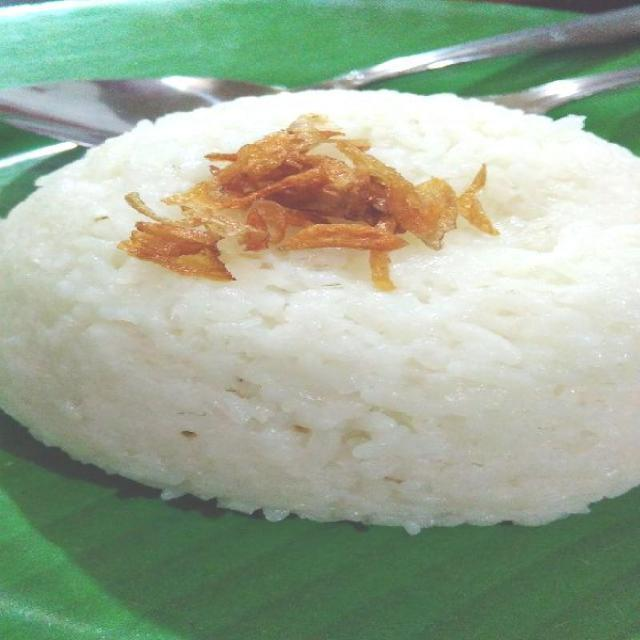rice: (0, 87, 639, 535)
